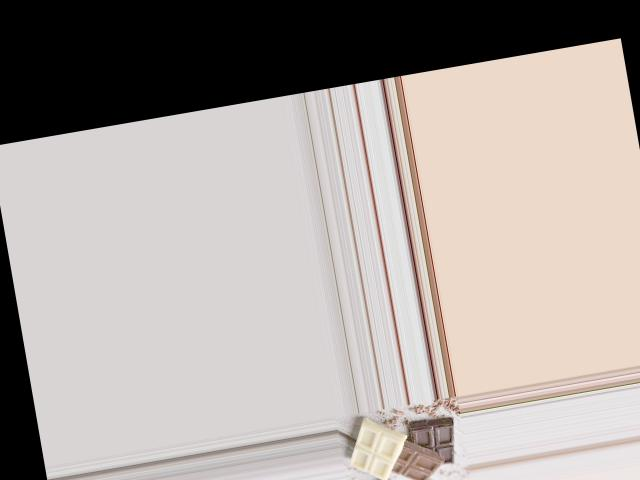chocolate: (344, 408, 468, 480)
